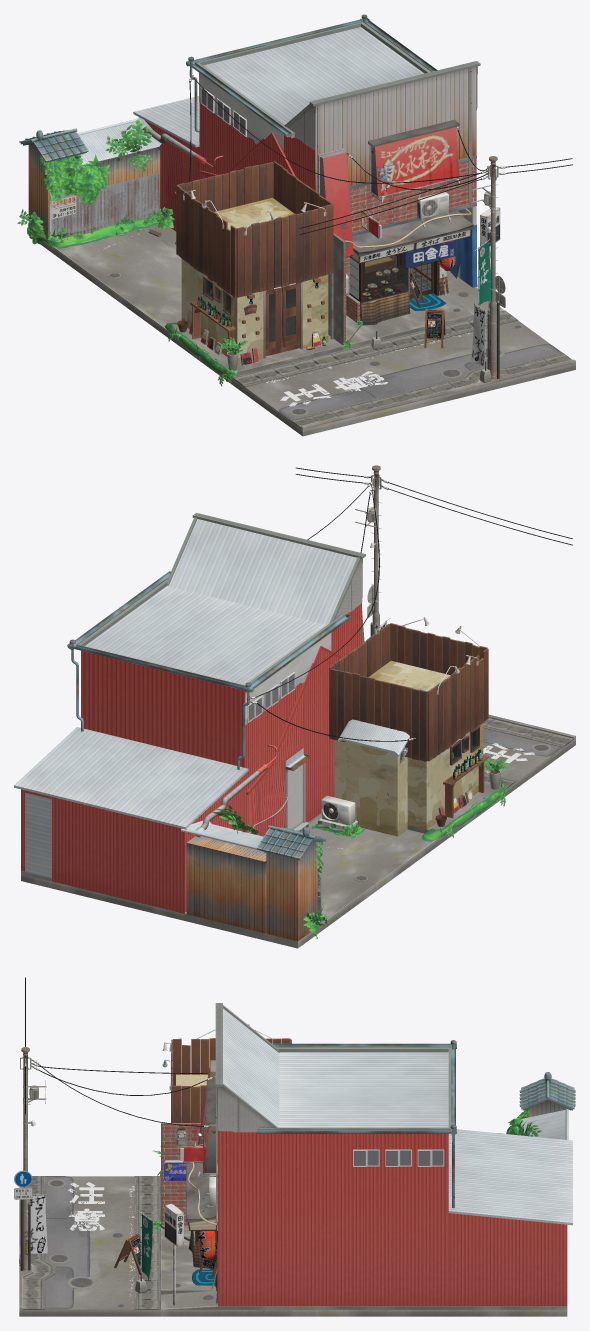
The model's file is restaurant-mobile.glb.
The picture shows the model from 3 angles, top to bottom: view 1: azimuth 30°, elevation 25°; view 2: azimuth 150°, elevation 25°; view 3: azimuth 270°, elevation 25°; orthographic projection.
Visible parts, largest first — view 1: Inakaya; view 2: Inakaya; view 3: Inakaya.
Boxes of the visible parts, x1,y1,x2,y2 form: Inakaya: [17, 14, 575, 436]; Inakaya: [14, 465, 575, 948]; Inakaya: [14, 977, 575, 1316].
Size of the model in its own units: 8.38 by 6.32 by 13.35.
5 materials, 3 textured.
